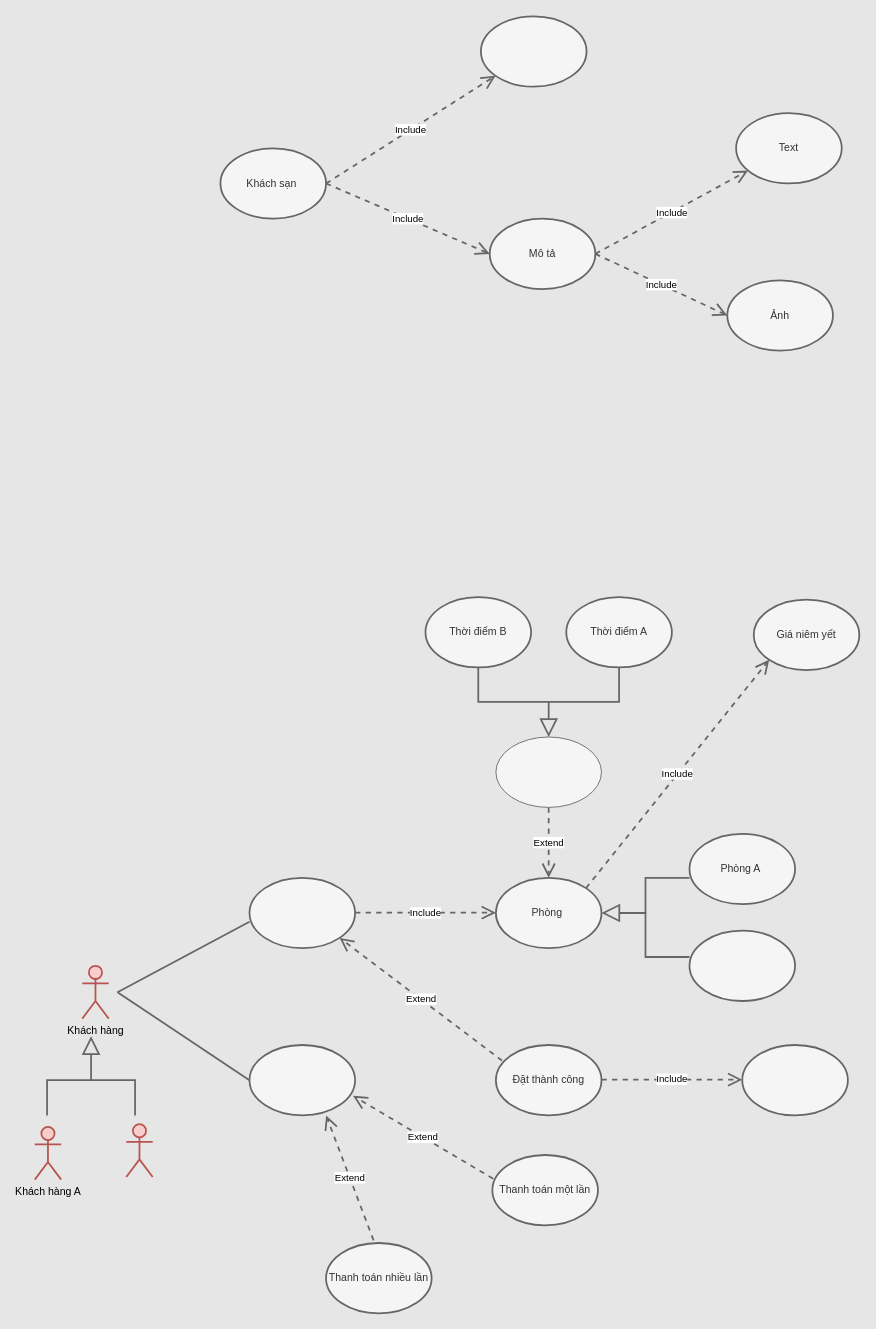
This 876x1329 diagram has some shape labels left out. Here are the shapes that lost their labels. From the top down, the centre of each, then its label:
(533,51): Tên, Địa chỉ, số sao
(548,771): Thời điểm
(302,912): Đặt phòng
(742,965): Phòng B
(302,1080): Thanh toán
(794,1080): Phòng còn trống trong thời gian khách muốn đặt
(139,1150): Khách hàng B
